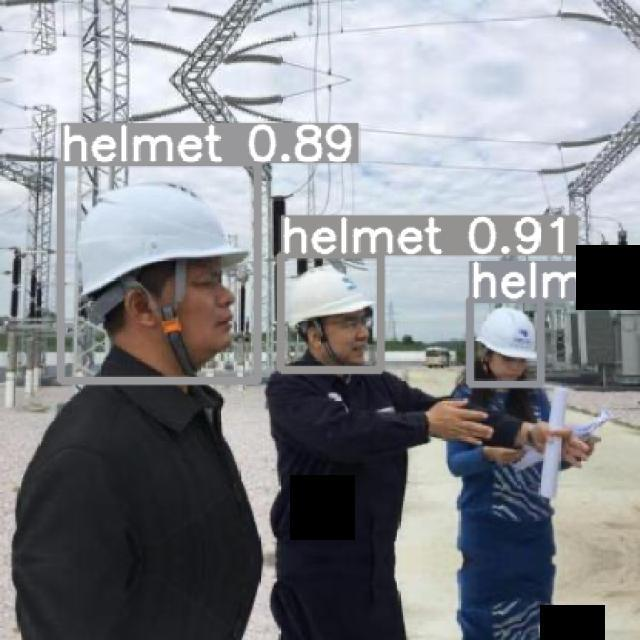white helmet: (73, 183, 252, 296), (286, 265, 376, 332), (478, 305, 539, 364)
